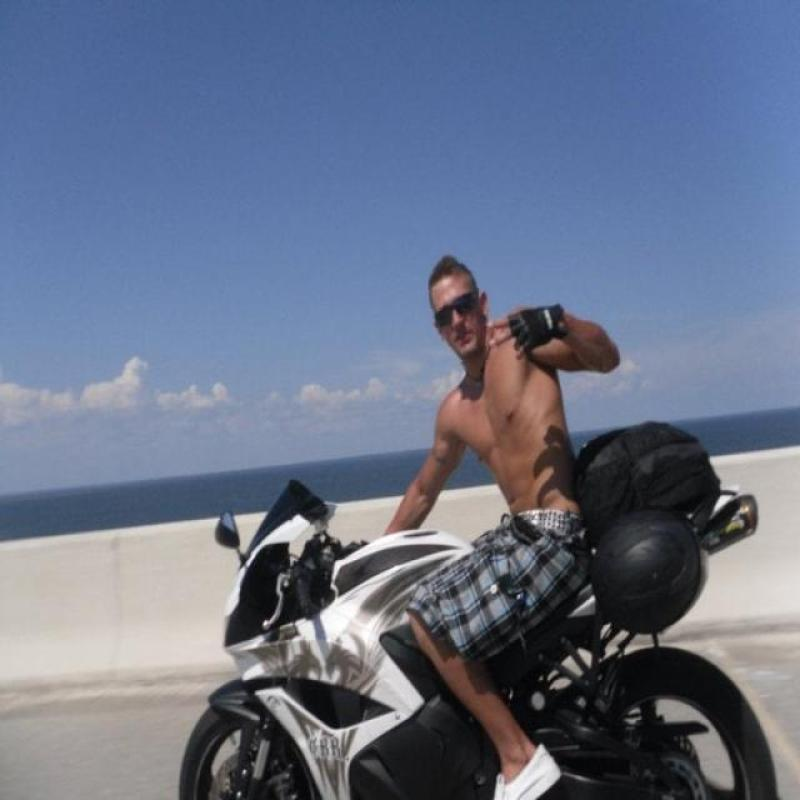nohelmet: (428, 254, 496, 362)
